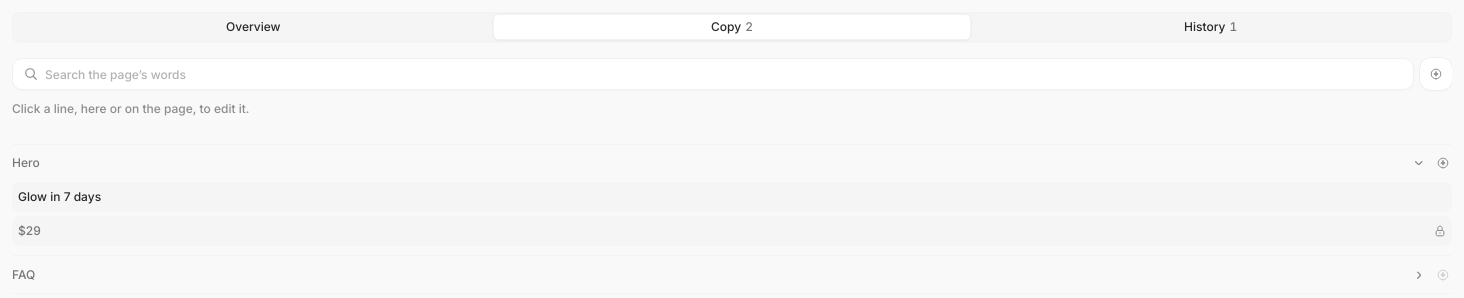
Test: DeskPanel › filters lines by search
Type "gentle" into the search field labelled "Search the page’s words".
click(713, 74); type("gentle")  # box x1=12 y1=58 x2=1414 y2=90
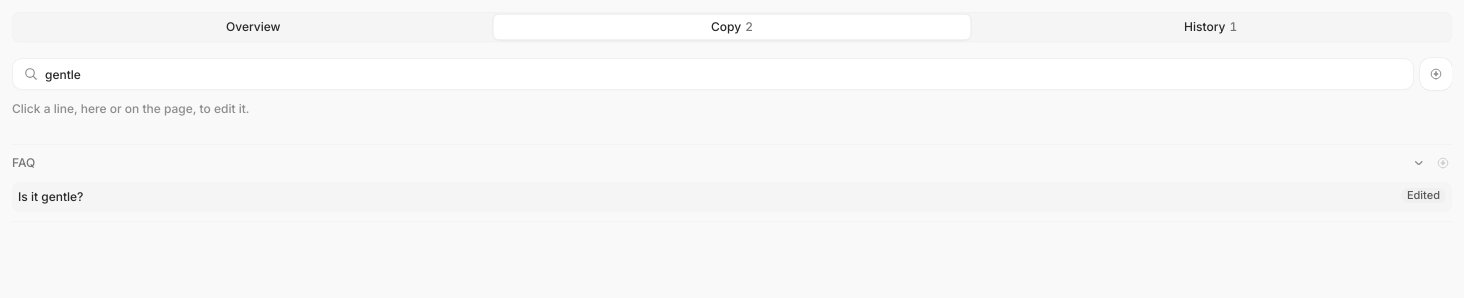
Expected: the button "Glow in 7 days" is gone
Expected: the text "Is it gentle?" is shown, x1=18 y1=189 x2=83 y2=204
